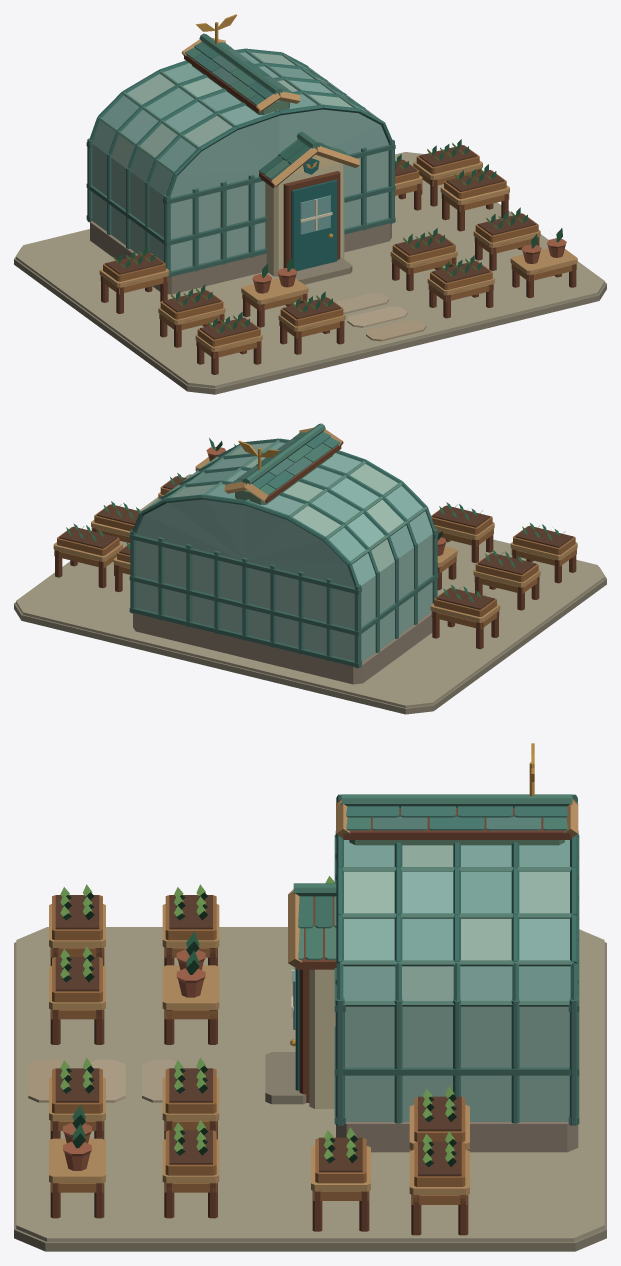
3 views of the same model, one above another, from view 1: azimuth 30°, elevation 25°; view 2: azimuth 150°, elevation 25°; view 3: azimuth 270°, elevation 25° (orthographic). The views are drawn at different scales.
Parts seen in each view (by area): view 1: Base, Staff07, Staff09, Staff10, Staff08, Staff06, Staff03, Staff05, Staff04; view 2: Base, Staff03, Staff07, Staff09, Staff05; view 3: Base, Staff05, Staff08, Staff04, Staff09, Staff06, Staff07, Staff03, Staff10.
Boxes of the visible parts, x1,y1,x2,y2 form: Base: (14, 14, 606, 394); Staff07: (195, 311, 262, 374); Staff09: (278, 291, 345, 354); Staff10: (427, 255, 494, 318); Staff08: (510, 228, 577, 297); Staff06: (390, 228, 457, 291); Staff03: (158, 284, 225, 347); Staff05: (241, 257, 308, 327); Staff04: (473, 207, 540, 270); Base: (14, 423, 606, 714); Staff03: (473, 550, 540, 610); Staff07: (510, 522, 577, 583); Staff09: (431, 502, 494, 562); Staff05: (437, 531, 457, 590); Base: (14, 743, 606, 1251); Staff05: (162, 931, 219, 1044); Staff08: (49, 1105, 105, 1218); Staff04: (162, 1119, 219, 1218); Staff09: (49, 946, 105, 1044); Staff06: (162, 1057, 219, 1139); Staff07: (49, 884, 105, 965); Staff03: (162, 884, 219, 965); Staff10: (49, 1057, 105, 1139).
Bounding box in the file's own units: 9 × 4.29 × 7.2.
